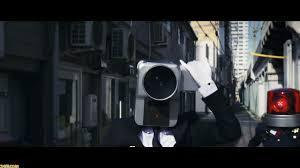no more kid: (133, 58, 184, 132)
